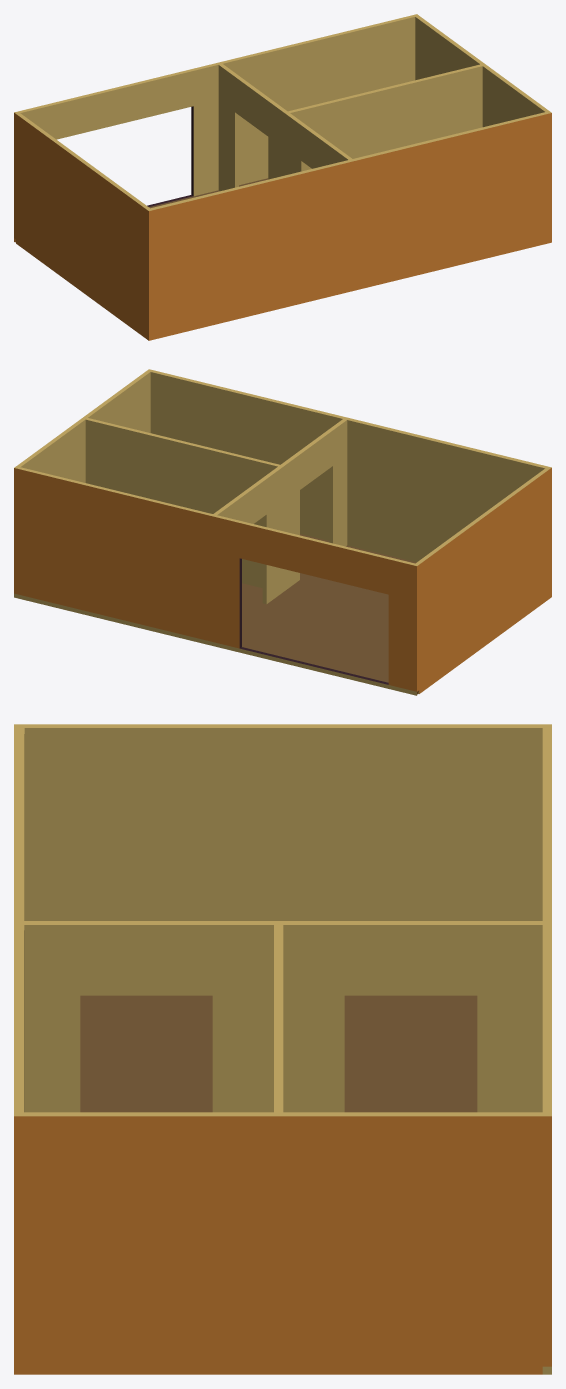
The model's file is Flat.fbx.
The picture shows the model from 3 angles, top to bottom: view 1: azimuth 30°, elevation 25°; view 2: azimuth 150°, elevation 25°; view 3: azimuth 270°, elevation 25°; orthographic projection. The views are drawn at different scales.
Parts seen in each view (by area): view 1: Flat_United; view 2: Flat_United; view 3: Flat_United.
Boxes of the visible parts, x1,y1,x2,y2 form: Flat_United: (14, 14, 551, 340); Flat_United: (14, 369, 551, 695); Flat_United: (14, 724, 551, 1374).
Size of the model in its own units: 1004 by 309 by 582.
Materials: 1 (1 with a texture image).
